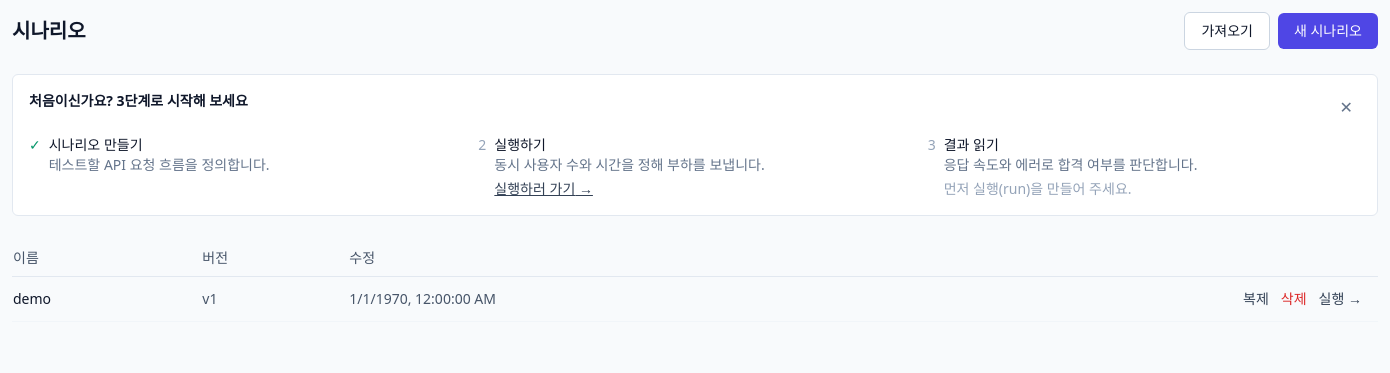
Test: ScenarioListPage delete › hard 409 → role=alert 배너에 서버 문구 passthrough
Expected: the link "demo" is shown, [13,289,51,308]
Click the button "삭제".
click(1294, 299)  # box [1281,289,1307,309]
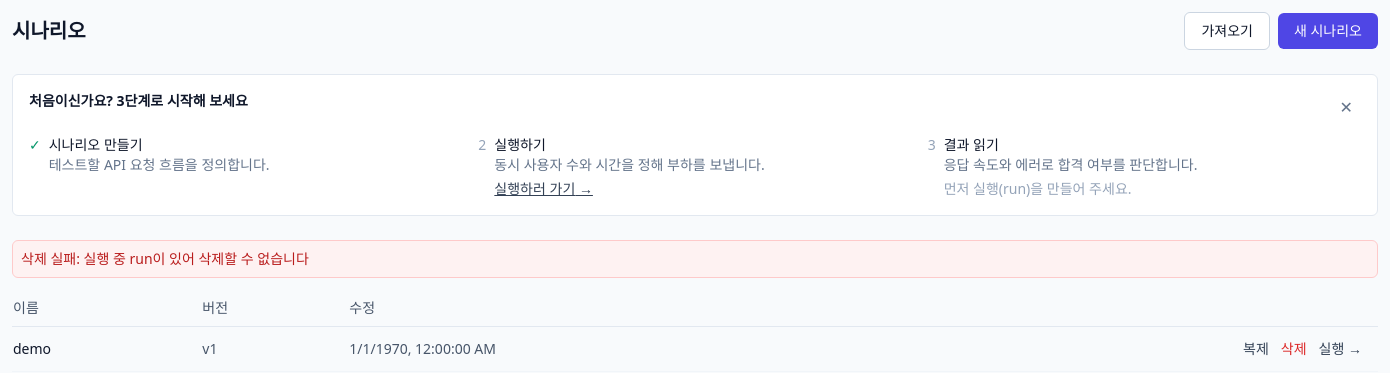
Expected: the message shows "실행 중 run이 있어 삭제할 수 없습니다", [21,249,309,268]
